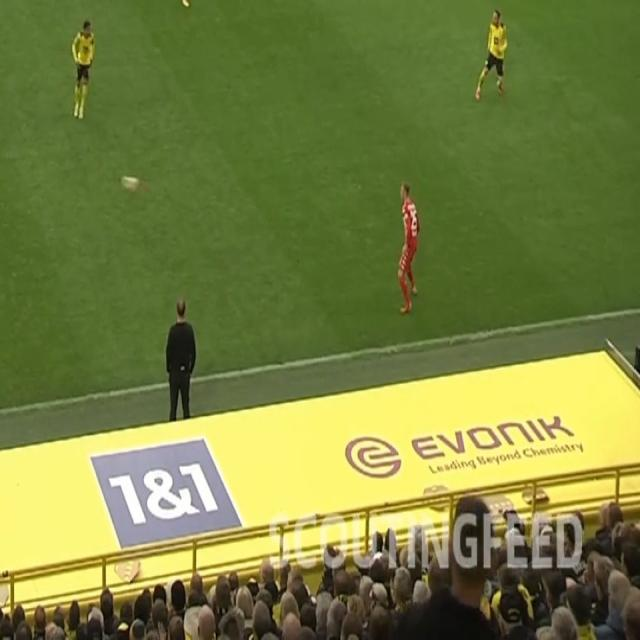ball: (119, 171, 144, 194)
